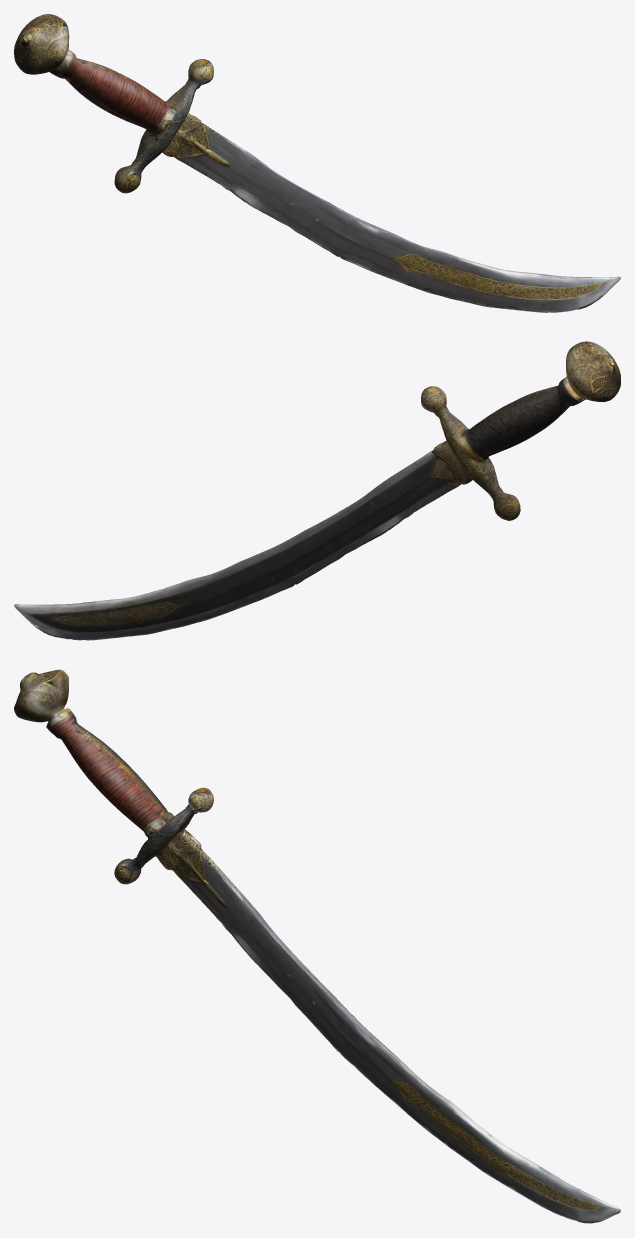
The model's file is mameluke_sword_0101195540_texture.fbx.
The picture shows the model from 3 angles, top to bottom: view 1: azimuth 30°, elevation 25°; view 2: azimuth 150°, elevation 25°; view 3: azimuth 330°, elevation 25°; orthographic projection.
Visible parts, largest first — view 1: Mesh1_Mesh1.207; view 2: Mesh1_Mesh1.207; view 3: Mesh1_Mesh1.207.
Boxes of the visible parts, bbox=[...] form: Mesh1_Mesh1.207: bbox=[14, 14, 620, 312]; Mesh1_Mesh1.207: bbox=[14, 341, 620, 640]; Mesh1_Mesh1.207: bbox=[14, 669, 620, 1223].
Size of the model in its own units: 200 by 134 by 18.7.
Materials: 1 (1 with a texture image).
